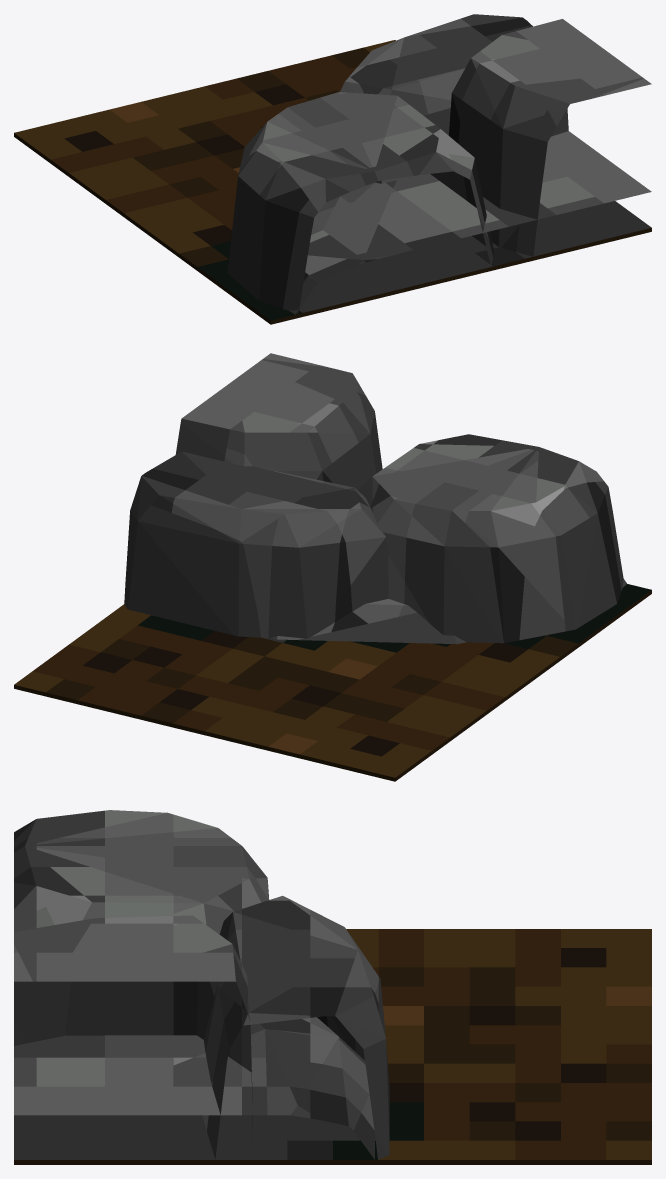
The model's file is newshe-1.glb.
The picture shows the model from 3 angles, top to bottom: view 1: azimuth 30°, elevation 25°; view 2: azimuth 150°, elevation 25°; view 3: azimuth 270°, elevation 25°; orthographic projection. The views are drawn at different scales.
Parts seen in each view (by area): view 1: newshe-1; view 2: newshe-1; view 3: newshe-1.
Boxes of the visible parts, x1,y1,x2,y2 form: newshe-1: [14, 14, 651, 324]; newshe-1: [14, 353, 651, 781]; newshe-1: [14, 810, 651, 1164].
Bounding box in the file's own units: 2 × 0.74 × 2.33.
